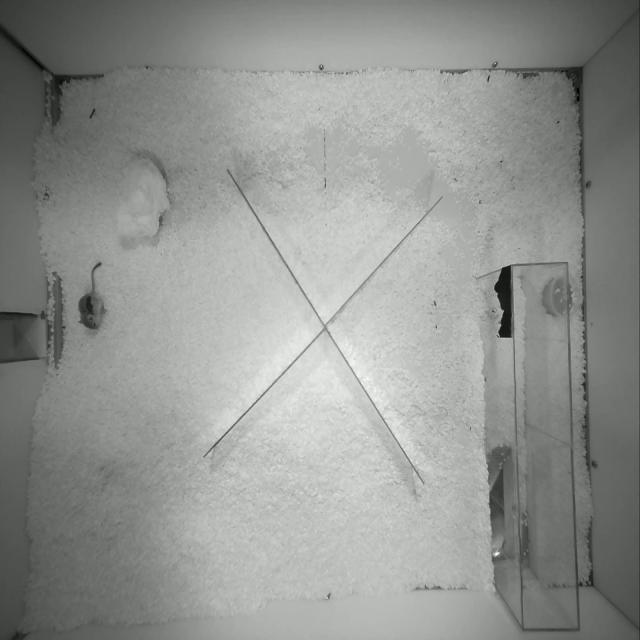pup_v_stripe: (78, 262, 104, 329)
